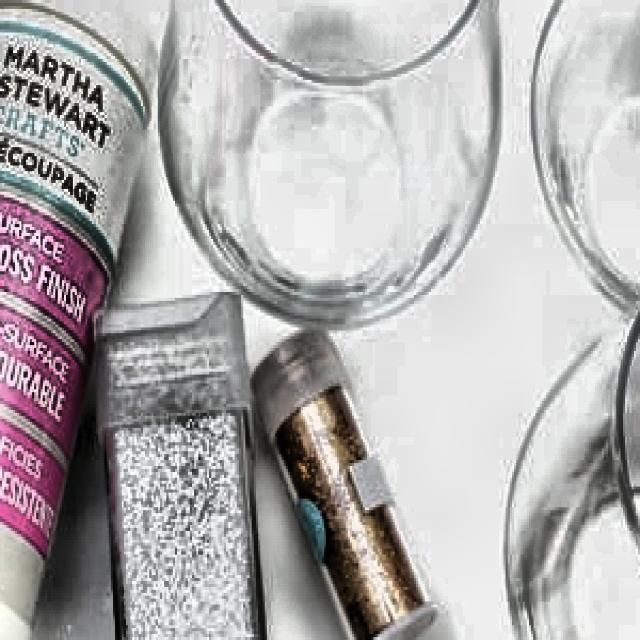glass: (160, 0, 503, 329)
